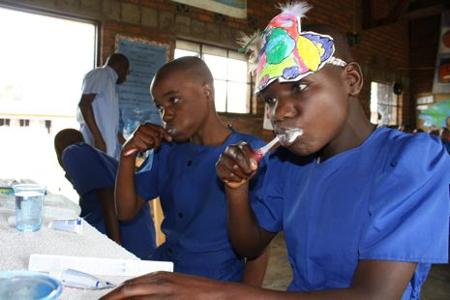person: (93, 15, 448, 298)
